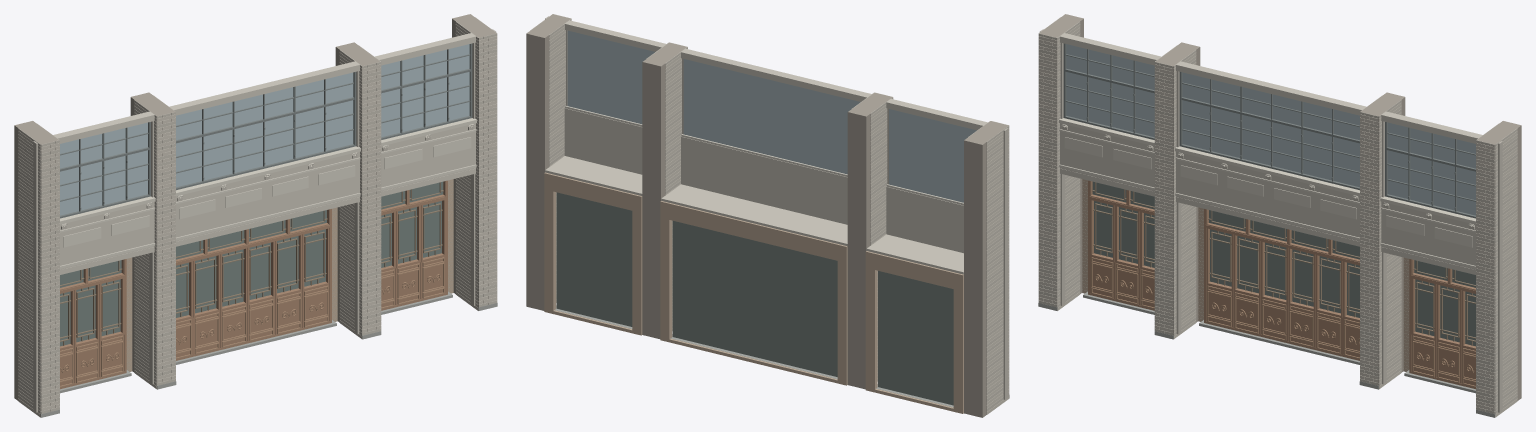
File: jingan-yan-tongchun-residence-street-front-raw.glb
3 renders of one model, left to right at view 1: azimuth 30°, elevation 25°; view 2: azimuth 150°, elevation 25°; view 3: azimuth 330°, elevation 25°, orthographic.
Visible parts, largest first — view 1: 延安中路816号严同春宅东宅街面; view 2: 延安中路816号严同春宅东宅街面; view 3: 延安中路816号严同春宅东宅街面.
Boxes of the visible parts, box(x1,y1,x2,y2) form: 延安中路816号严同春宅东宅街面: box(14, 14, 497, 417); 延安中路816号严同春宅东宅街面: box(526, 14, 1009, 417); 延安中路816号严同春宅东宅街面: box(1038, 14, 1521, 417).
Bounding box in the file's own units: 11.92 × 6.76 × 1.25.
